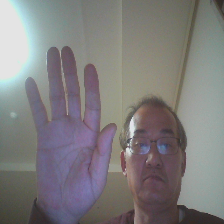hand: (22, 41, 117, 217)
